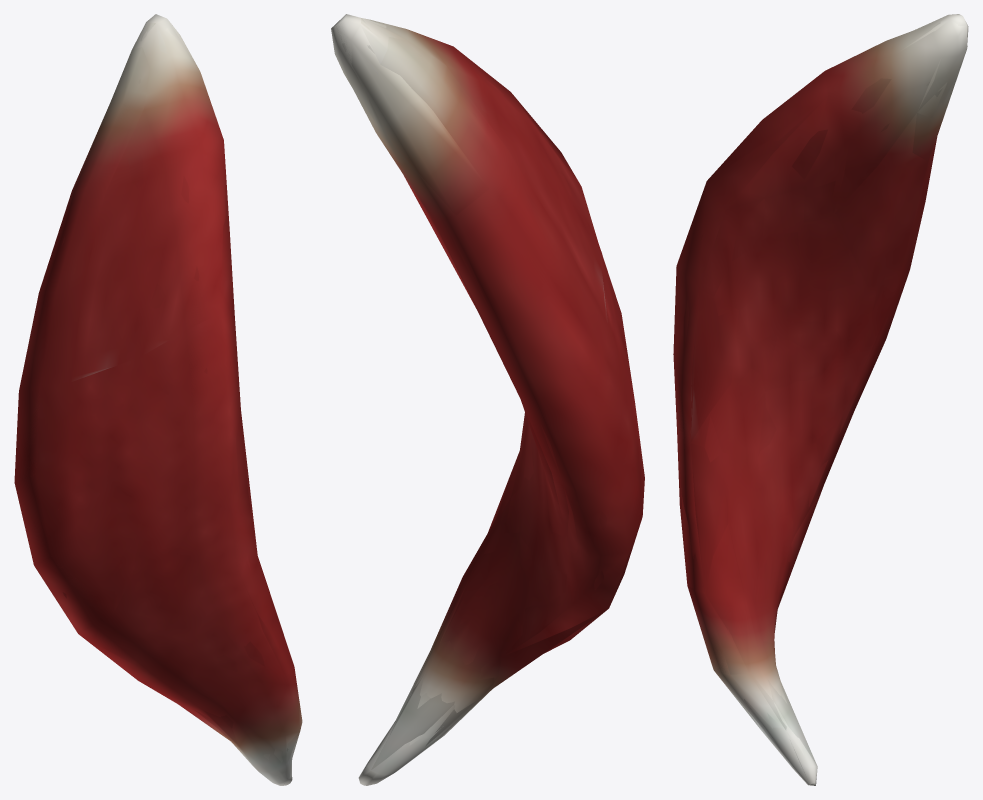
Rendered from R Deltoideus Acromialis.fbx.
3 views of the same model, side by side, from view 1: azimuth 30°, elevation 25°; view 2: azimuth 150°, elevation 25°; view 3: azimuth 270°, elevation 25° (orthographic). The views are drawn at different scales.
Parts seen in each view (by area): view 1: R Deltoideus Acromialis, R Deltoideus Acromialis low, R Deltoideus Acromialis high; view 2: R Deltoideus Acromialis, R Deltoideus Acromialis low, R Deltoideus Acromialis high; view 3: R Deltoideus Acromialis, R Deltoideus Acromialis low, R Deltoideus Acromialis high.
Boxes of the visible parts, x1,y1,x2,y2 form: R Deltoideus Acromialis: [14, 14, 302, 785]; R Deltoideus Acromialis low: [17, 16, 301, 765]; R Deltoideus Acromialis high: [58, 28, 292, 783]; R Deltoideus Acromialis: [331, 14, 644, 785]; R Deltoideus Acromialis low: [335, 14, 641, 769]; R Deltoideus Acromialis high: [342, 29, 638, 749]; R Deltoideus Acromialis: [673, 14, 968, 785]; R Deltoideus Acromialis low: [673, 15, 967, 774]; R Deltoideus Acromialis high: [683, 22, 967, 784].
Size of the model in its own units: 1.08 by 3 by 1.08.
1 material, 1 textured.
